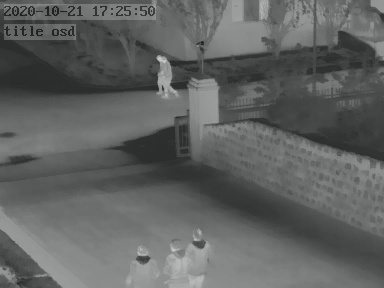person: (121, 243, 162, 288), (182, 229, 212, 288), (161, 236, 190, 288), (158, 53, 178, 96)
